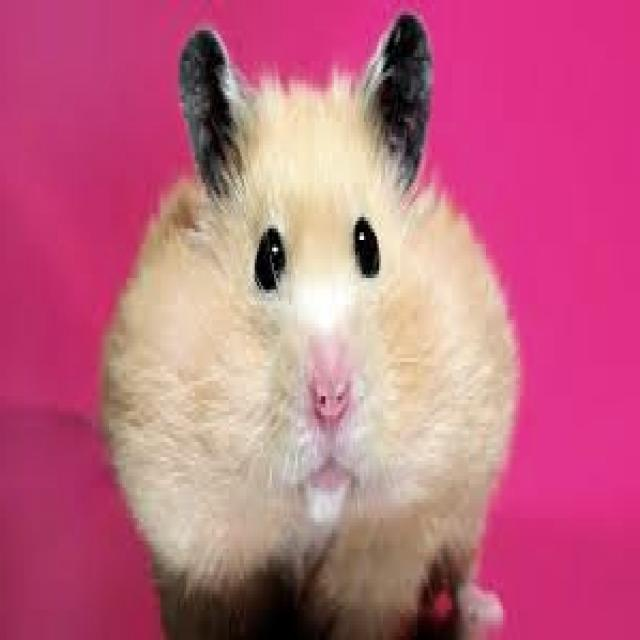hamster: (101, 11, 516, 636)
